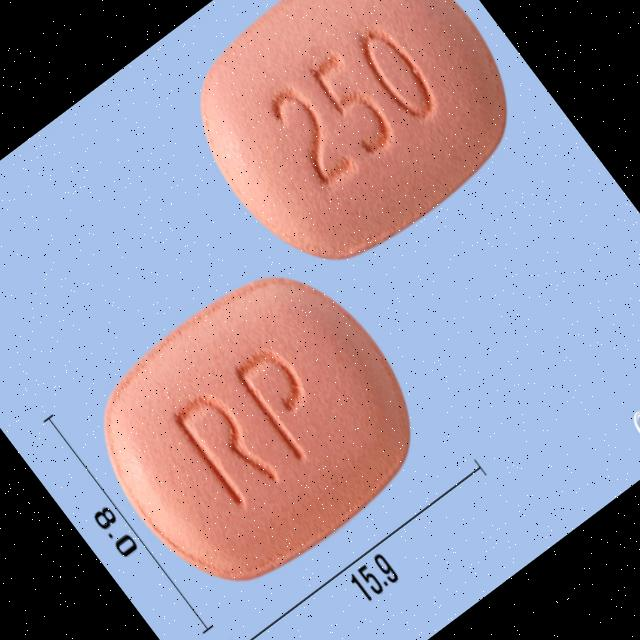Rp Levofloxacin Tab: (61, 237, 453, 622), (159, 0, 548, 298)
